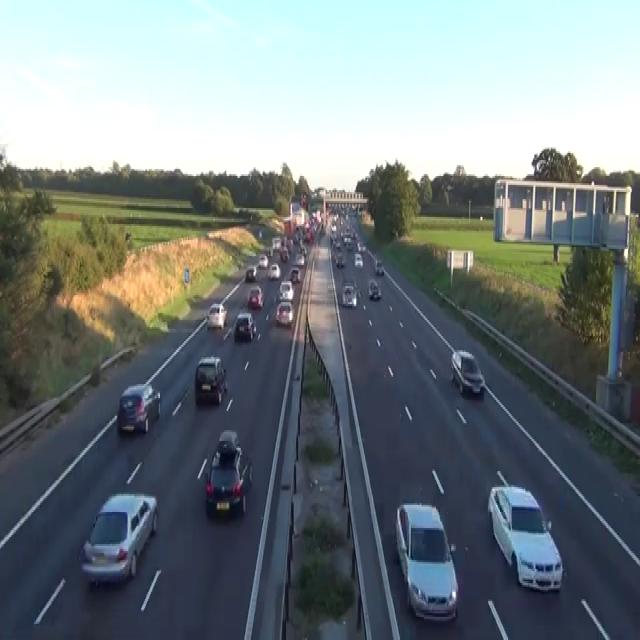Car: (487, 475, 563, 592), (394, 502, 458, 622), (79, 492, 158, 586), (205, 428, 253, 518), (117, 382, 161, 434), (194, 354, 227, 405), (450, 348, 485, 396), (233, 311, 256, 341), (206, 302, 227, 329), (218, 428, 239, 452), (275, 301, 294, 327), (247, 284, 264, 308), (342, 284, 357, 308), (278, 279, 294, 301), (368, 279, 381, 301), (267, 263, 280, 279), (245, 265, 257, 281), (374, 258, 384, 276), (258, 252, 268, 268), (290, 266, 300, 282), (279, 246, 289, 262), (293, 252, 304, 266), (335, 252, 345, 266), (354, 252, 363, 266), (343, 233, 352, 247), (272, 236, 281, 249), (356, 240, 366, 251), (125, 229, 131, 240), (334, 240, 341, 249), (346, 240, 353, 249), (330, 222, 336, 231), (266, 247, 272, 256), (258, 230, 262, 238)
